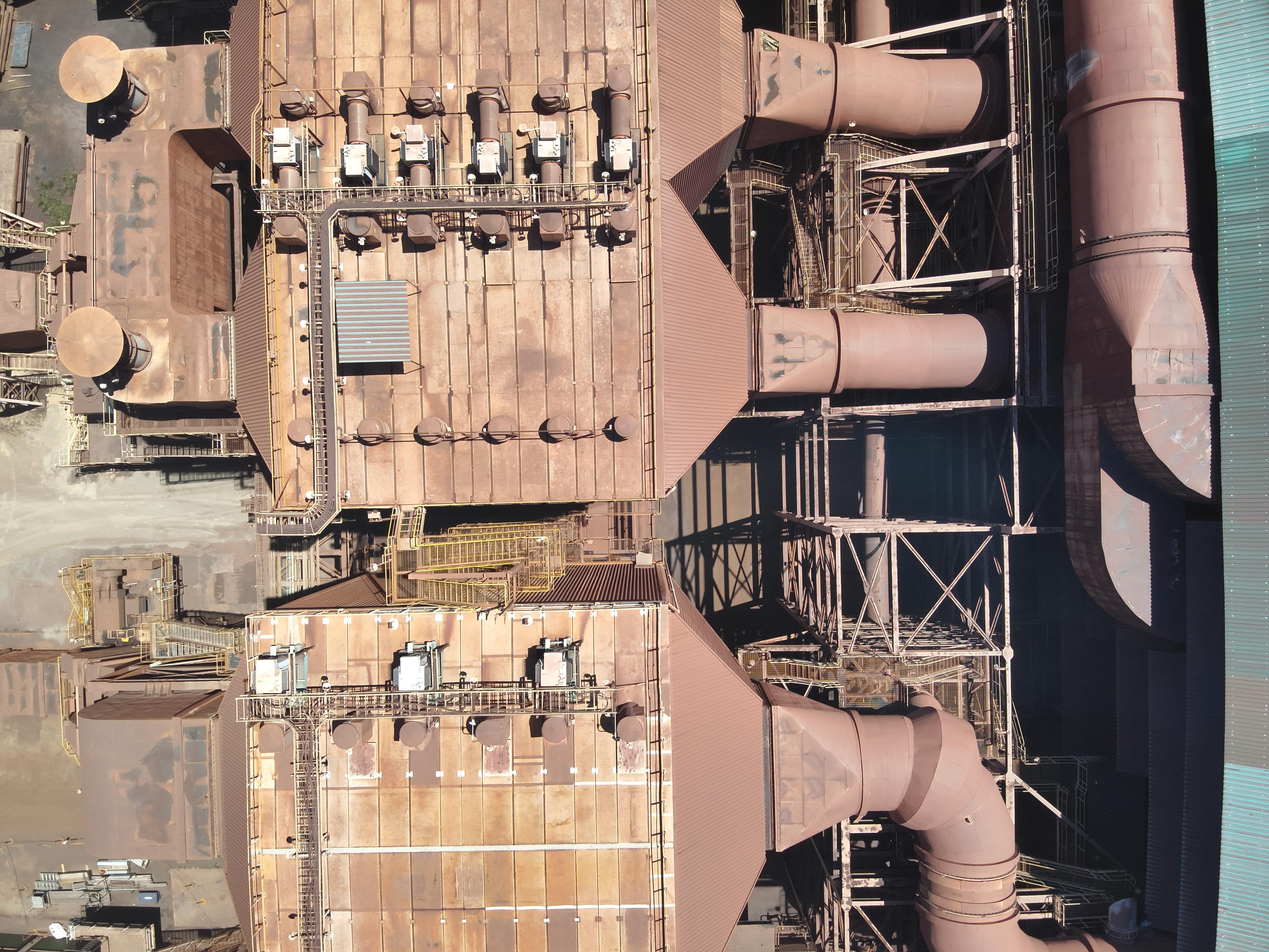Failures: (759, 30, 781, 56)
